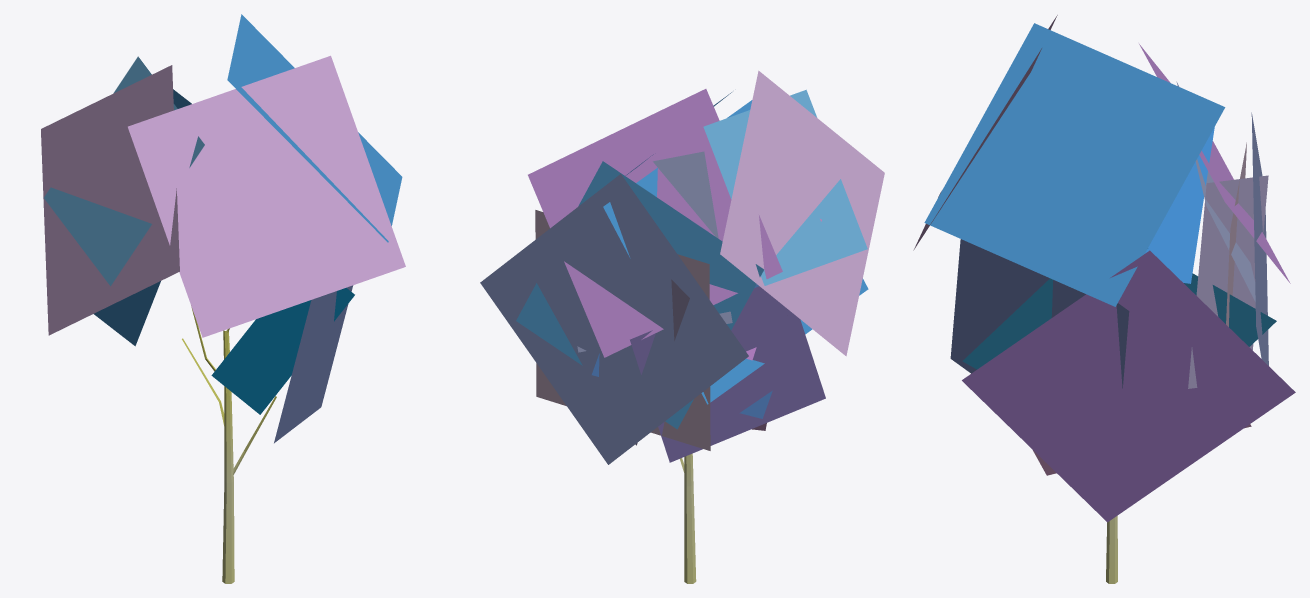
Rendered from tree_aspen_1.glb.
3 renders of one model, left to right at view 1: azimuth 30°, elevation 25°; view 2: azimuth 150°, elevation 25°; view 3: azimuth 270°, elevation 25°, orthographic. The views are drawn at different scales.
Parts seen in each view (by area): view 1: tree_aspen_1; view 2: tree_aspen_1; view 3: tree_aspen_1.
Part boxes in pixels (bbox=[...]): tree_aspen_1: bbox=[41, 14, 405, 583]; tree_aspen_1: bbox=[480, 70, 884, 583]; tree_aspen_1: bbox=[913, 15, 1295, 583].
Size of the model in its own units: 7.86 by 11.74 by 7.54.
